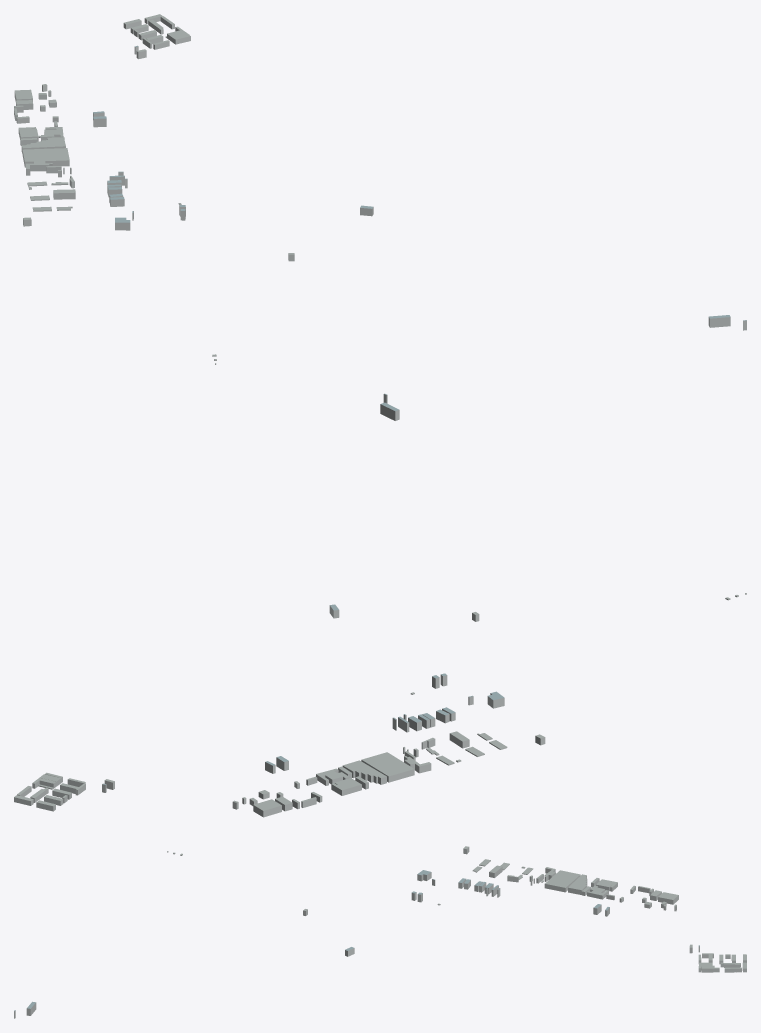
3 renders of one model, top to bottom at view 1: azimuth 30°, elevation 25°; view 2: azimuth 150°, elevation 25°; view 3: azimuth 270°, elevation 25°, orthographic. The views are drawn at different scales.
Visible parts, largest first — view 1: 上海全域建筑分块 · mapped building neighborhood; view 2: 上海全域建筑分块 · mapped building neighborhood; view 3: 上海全域建筑分块 · mapped building neighborhood.
Part boxes in pixels (x1,y1,x2,y2): 上海全域建筑分块 · mapped building neighborhood: [14, 14, 746, 364]; 上海全域建筑分块 · mapped building neighborhood: [14, 393, 746, 817]; 上海全域建筑分块 · mapped building neighborhood: [14, 846, 746, 1018].
Size of the model in its own units: 1126 by 24.89 by 2081.
